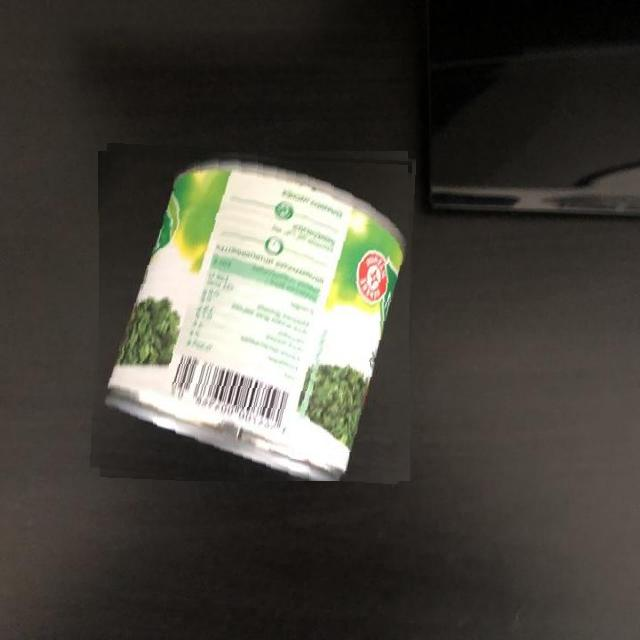recyclable: (95, 147, 412, 481)
